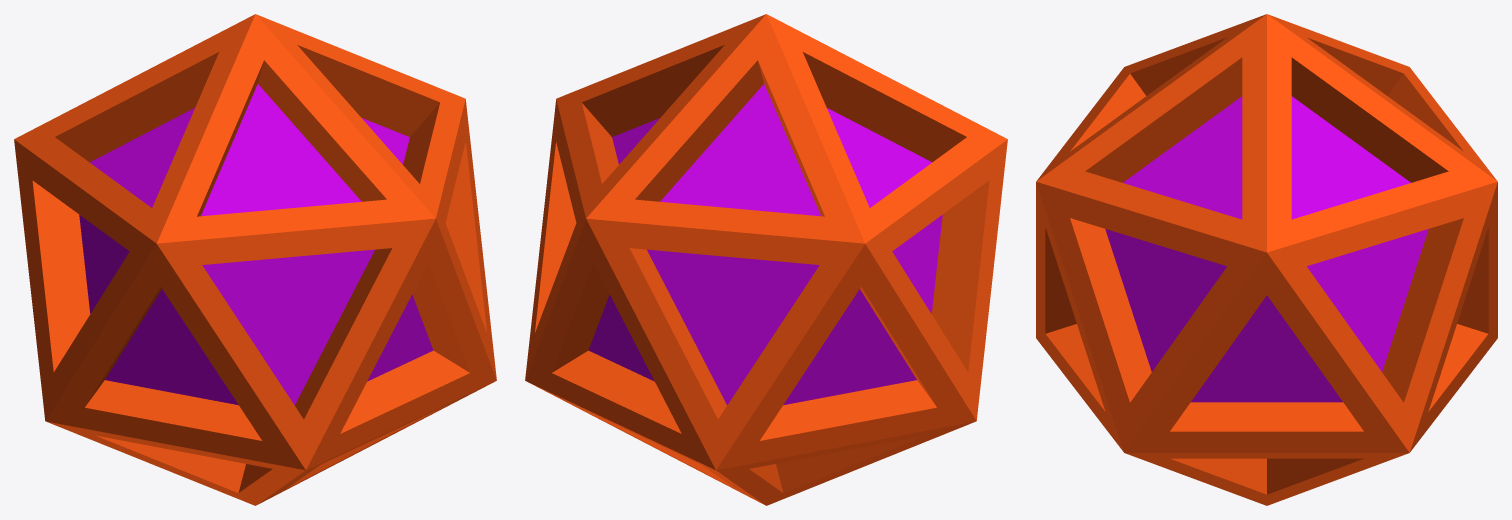
The model's file is Explosive.fbx.
The picture shows the model from 3 angles, left to right: view 1: azimuth 30°, elevation 25°; view 2: azimuth 150°, elevation 25°; view 3: azimuth 270°, elevation 25°; orthographic projection.
Parts seen in each view (by area): view 1: Icosphere; view 2: Icosphere; view 3: Icosphere.
Part boxes in pixels (box(x1,y1,x2,y2)): Icosphere: box(14, 14, 496, 505); Icosphere: box(525, 14, 1007, 505); Icosphere: box(1036, 14, 1497, 505).
Bounding box in the file's own units: 17.12 × 19.14 × 16.28.
